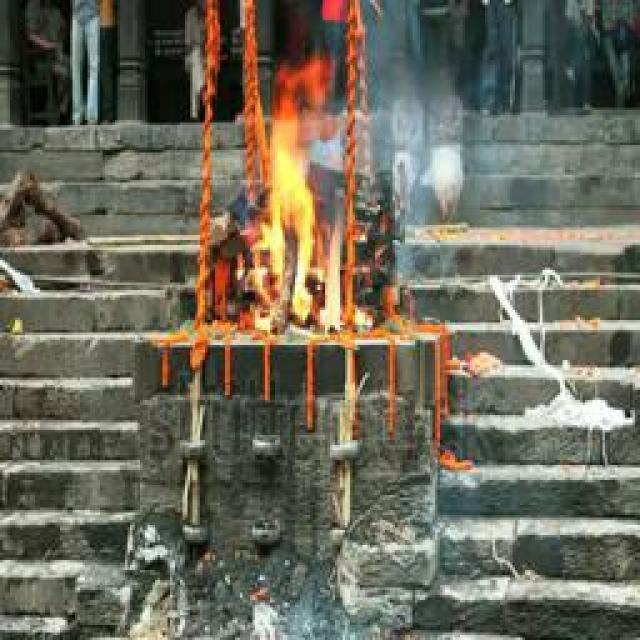Fire: (250, 95, 350, 332)
